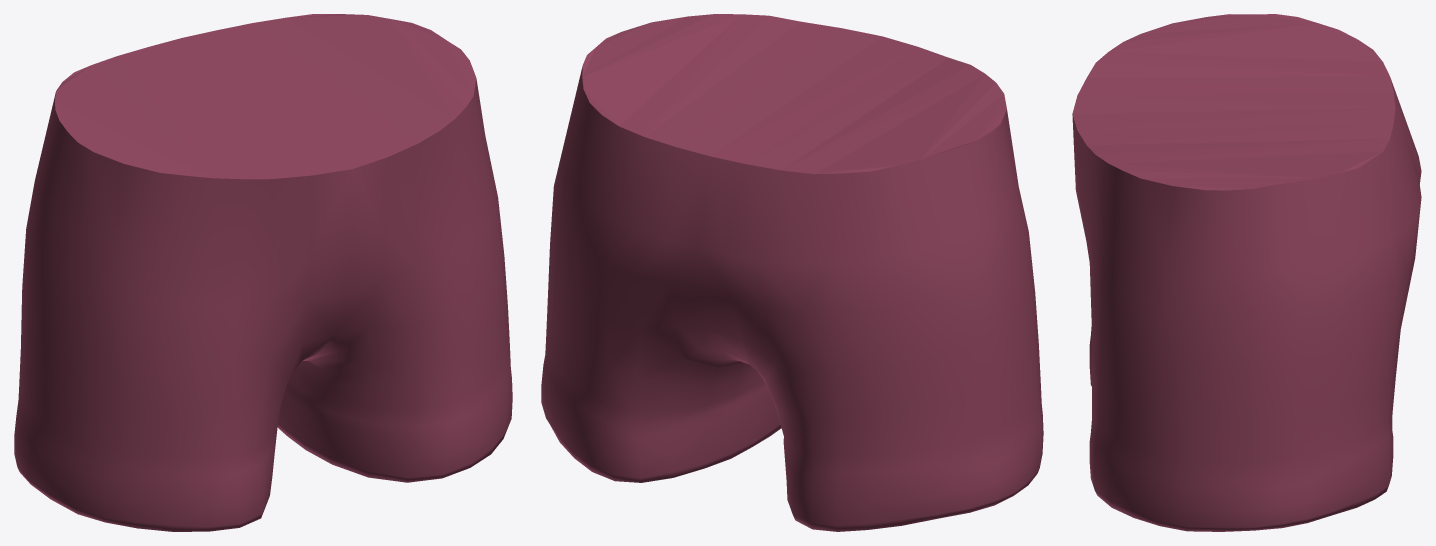
File: Dummy_bottom_002.glb
The picture shows the model from 3 angles, left to right: view 1: azimuth 30°, elevation 25°; view 2: azimuth 150°, elevation 25°; view 3: azimuth 270°, elevation 25°; orthographic projection. The views are drawn at different scales.
Parts seen in each view (by area): view 1: swim_shorts; view 2: swim_shorts; view 3: swim_shorts.
Boxes of the visible parts, x1=… form: swim_shorts: x1=14, y1=14, x2=512, y2=531; swim_shorts: x1=541, y1=14, x2=1043, y2=531; swim_shorts: x1=1072, y1=14, x2=1421, y2=531.
Size of the model in its own units: 2.24 by 1.7 by 1.57.
